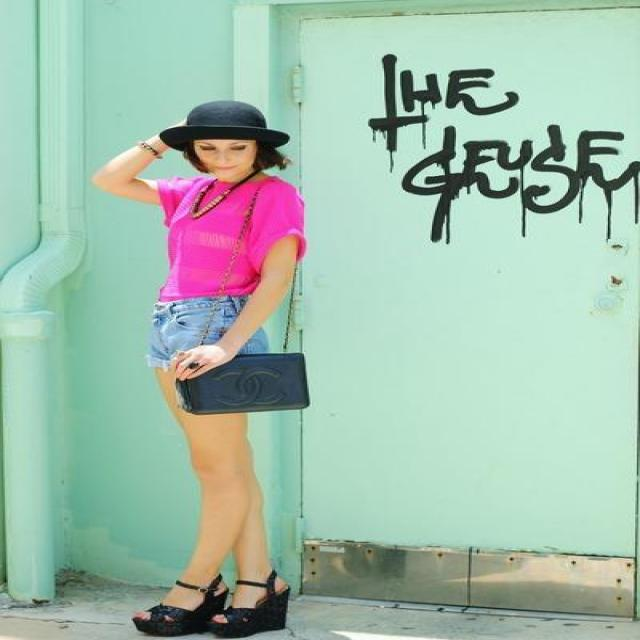bag: (176, 352, 309, 414)
hat: (158, 101, 268, 158)
shirt: (158, 170, 302, 303)
shoe: (134, 576, 293, 638)
shorts: (152, 294, 280, 356)
